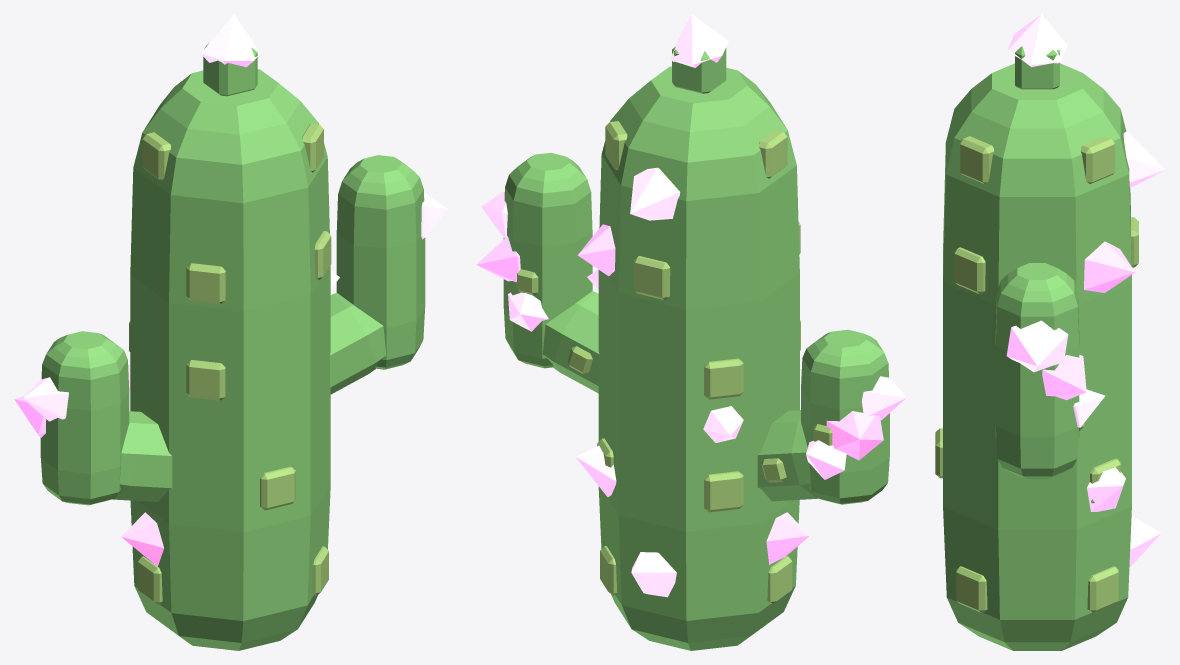
File: NarmekNeonAlienCucumber.fbx
3 renders of one model, left to right at view 1: azimuth 30°, elevation 25°; view 2: azimuth 150°, elevation 25°; view 3: azimuth 270°, elevation 25°, orthographic.
Visible parts, largest first — view 1: NarmekNeonAlienCucumber.Body, NarmekNeonAlienCucumber.Arms, NarmekNeonAlienCucumber.Studs, NarmekNeonAlienCucumber.Gems, NarmekNeonAlienCucumber.GemsDark; view 2: NarmekNeonAlienCucumber.Body, NarmekNeonAlienCucumber.Arms, NarmekNeonAlienCucumber.Gems, NarmekNeonAlienCucumber.Studs, NarmekNeonAlienCucumber.GemsDark; view 3: NarmekNeonAlienCucumber.Body, NarmekNeonAlienCucumber.Arms, NarmekNeonAlienCucumber.Gems, NarmekNeonAlienCucumber.Studs, NarmekNeonAlienCucumber.GemsDark.
Part boxes in pixels (x1=…): NarmekNeonAlienCucumber.Body: x1=130, y1=43, x2=330, y2=650; NarmekNeonAlienCucumber.Arms: x1=40, y1=155, x2=425, y2=505; NarmekNeonAlienCucumber.Studs: x1=129, y1=123, x2=331, y2=604; NarmekNeonAlienCucumber.Gems: x1=23, y1=14, x2=447, y2=421; NarmekNeonAlienCucumber.GemsDark: x1=14, y1=396, x2=163, y2=566; NarmekNeonAlienCucumber.Body: x1=598, y1=46, x2=799, y2=650; NarmekNeonAlienCucumber.Arms: x1=503, y1=152, x2=889, y2=504; NarmekNeonAlienCucumber.Gems: x1=481, y1=14, x2=906, y2=597; NarmekNeonAlienCucumber.Studs: x1=516, y1=121, x2=832, y2=604; NarmekNeonAlienCucumber.GemsDark: x1=476, y1=224, x2=883, y2=564; NarmekNeonAlienCucumber.Body: x1=943, y1=46, x2=1131, y2=650; NarmekNeonAlienCucumber.Arms: x1=995, y1=263, x2=1079, y2=478; NarmekNeonAlienCucumber.Gems: x1=1006, y1=14, x2=1164, y2=567; NarmekNeonAlienCucumber.Studs: x1=935, y1=136, x2=1138, y2=612; NarmekNeonAlienCucumber.GemsDark: x1=1042, y1=241, x2=1135, y2=400.
Size of the model in its own units: 3.29 by 4.51 by 1.53.
